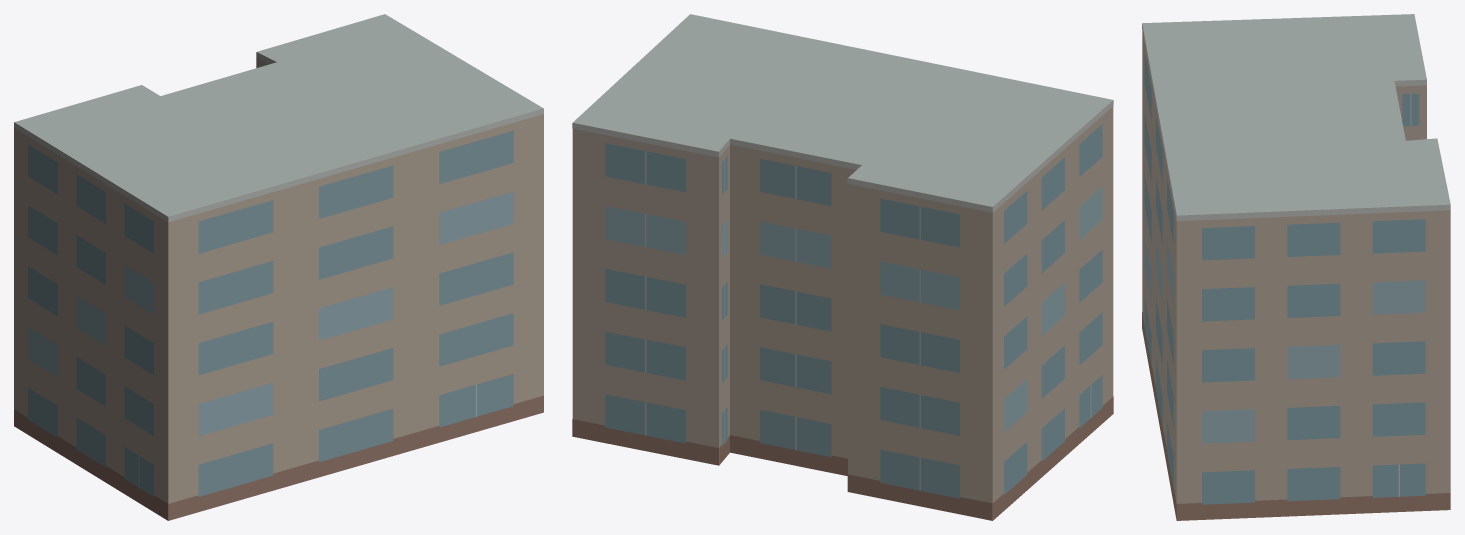
The model's file is survey-upis-32755782.glb.
3 renders of one model, left to right at view 1: azimuth 30°, elevation 25°; view 2: azimuth 150°, elevation 25°; view 3: azimuth 270°, elevation 25°, orthographic. The views are drawn at different scales.
Parts seen in each view (by area): view 1: survey-upis-32755782.tmp; view 2: survey-upis-32755782.tmp; view 3: survey-upis-32755782.tmp.
Part boxes in pixels (x1,y1,x2,y2): survey-upis-32755782.tmp: (14, 14, 543, 520); survey-upis-32755782.tmp: (572, 14, 1113, 520); survey-upis-32755782.tmp: (1142, 14, 1450, 520).
Size of the model in its own units: 18.7 by 13.2 by 12.1.
